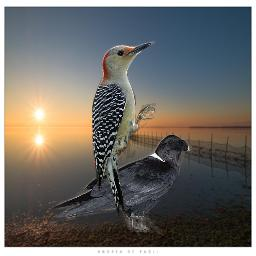Crow: (49, 134, 193, 236)
Woodpecker: (92, 38, 157, 223)
